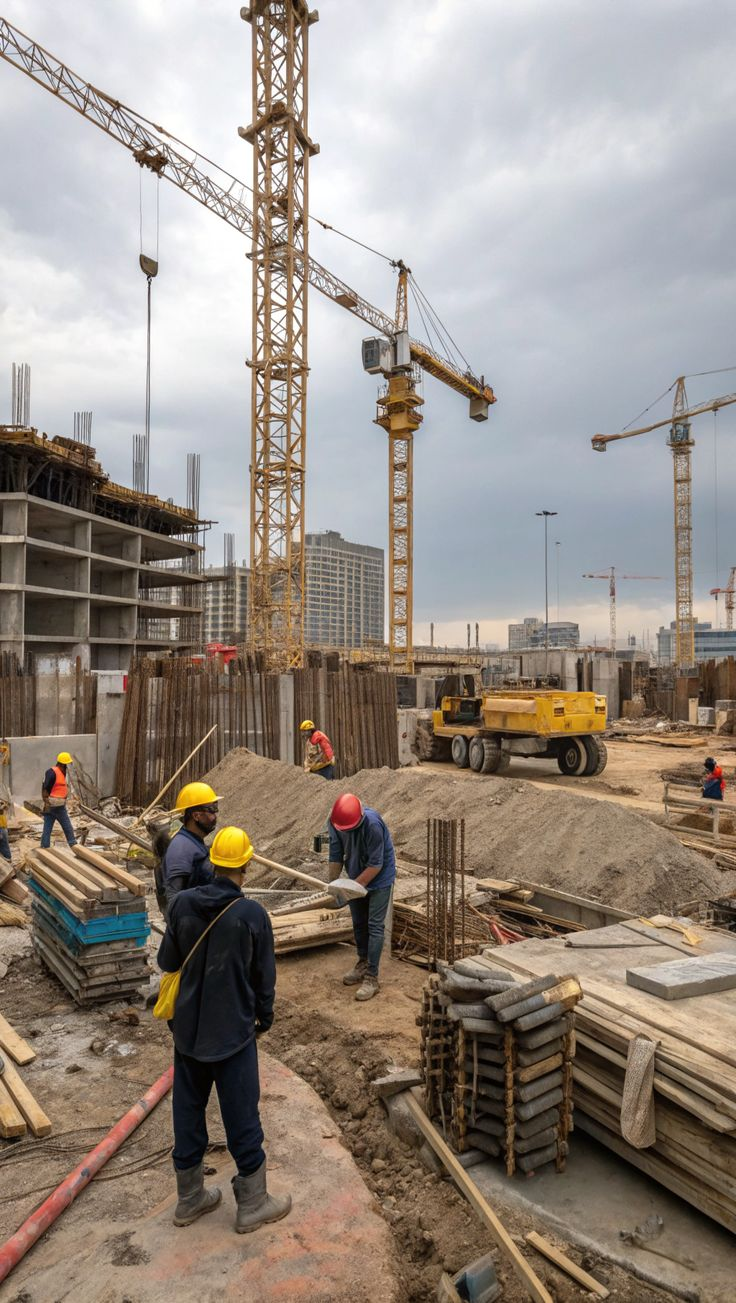crane: (17, 53, 463, 668), (573, 334, 715, 755)
hardhat: (159, 771, 218, 812), (205, 832, 257, 872), (332, 791, 373, 828), (292, 714, 323, 739), (53, 745, 78, 770)
no_safety_vest: (169, 886, 292, 1064), (333, 815, 399, 944), (156, 823, 210, 944)
person: (151, 833, 308, 1222), (137, 758, 221, 1039), (321, 783, 411, 998), (32, 729, 89, 861), (290, 701, 342, 807)
safety_vest: (306, 722, 333, 765), (45, 768, 68, 815)
truck: (401, 652, 626, 773)
